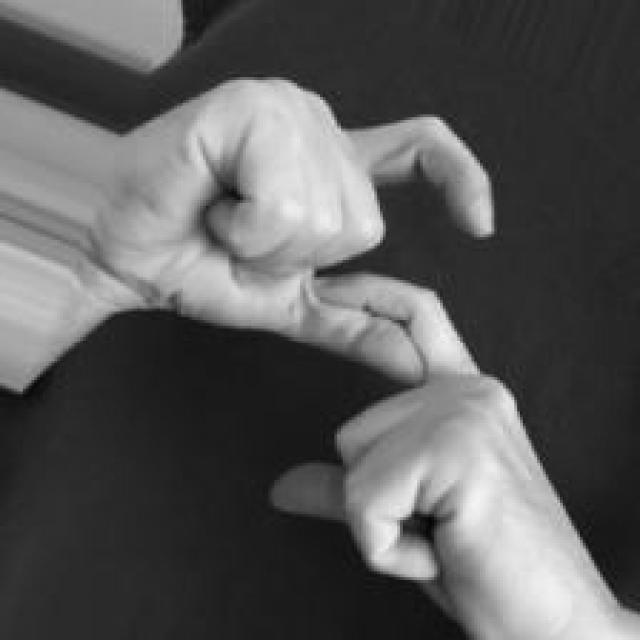S: (120, 71, 622, 640)
